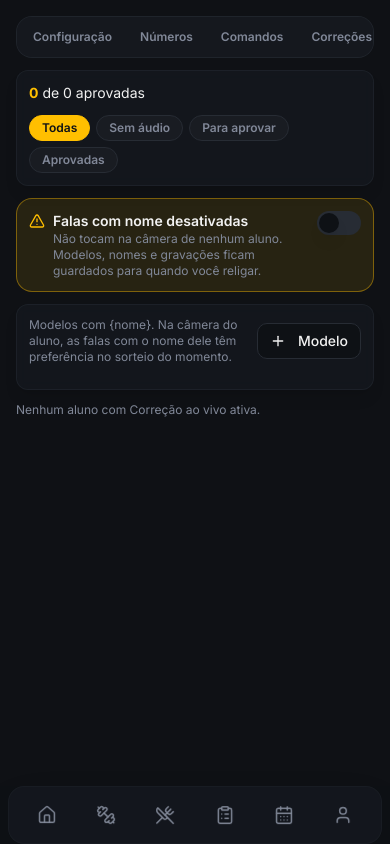
Test: Voz da Correção ao vivo — tela do admin › aba Com nome desligada: aviso com chave para religar e sem "Gerar falas com nome"
The width and height of the screenshot is (390, 844).
Expected: the message with test id "coach-voice-names-disabled" shows "Falas com nome desativadas", [53,212,248,229]
Click the switch named "Religar falas com nome do aluno".
click(339, 223)  # box [317,211,361,235]
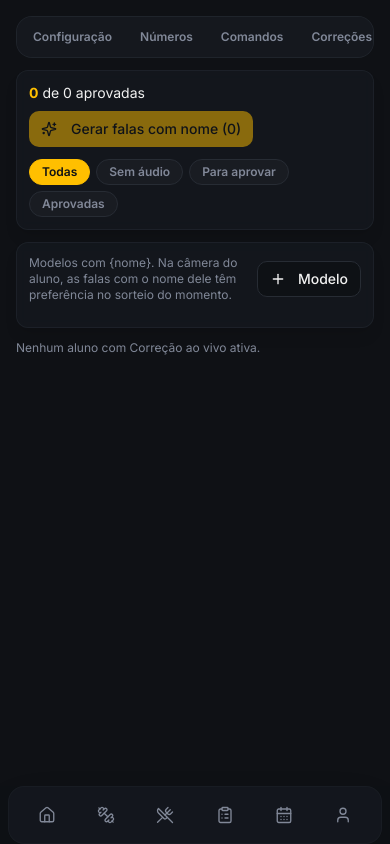
Result: the button with test id "coach-voice-generate-names" is shown at [29,111,253,147]
Result: the message with test id "coach-voice-names-disabled" is gone
